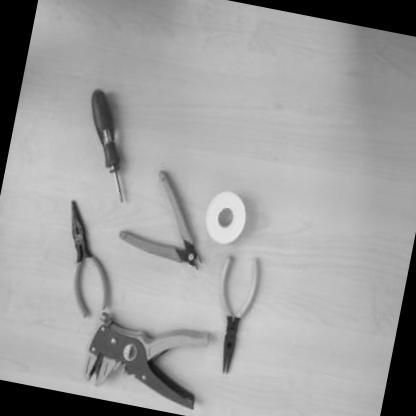Screwdriver: (66, 82, 147, 206)
